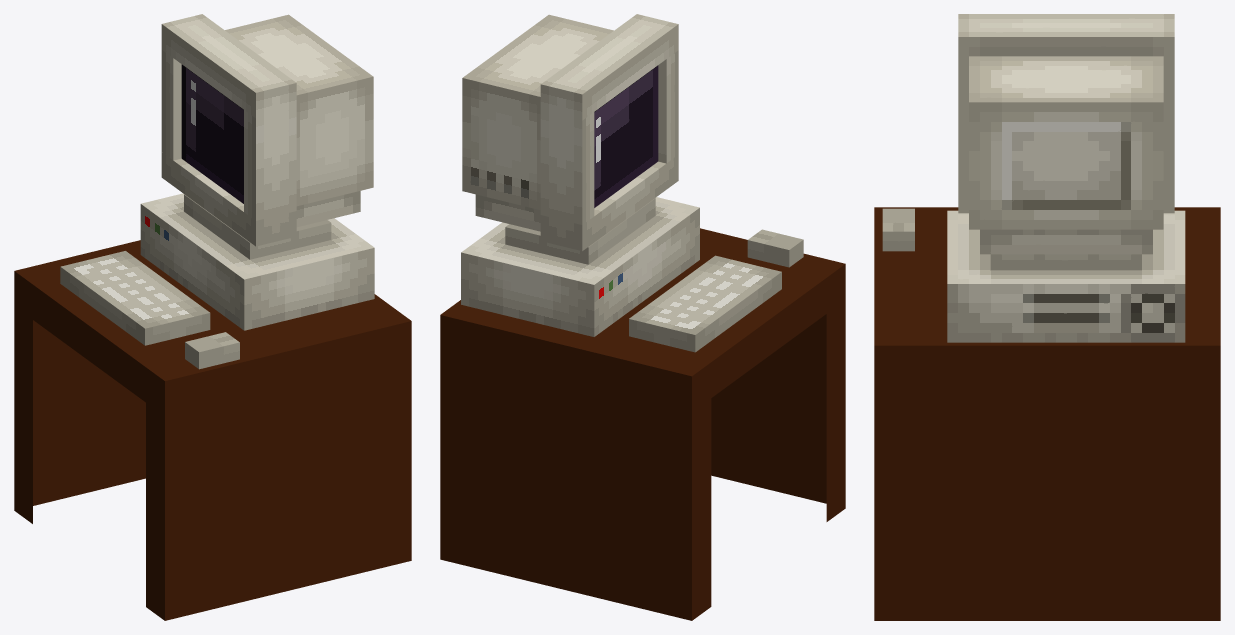
The picture shows the model from 3 angles, left to right: view 1: azimuth 30°, elevation 25°; view 2: azimuth 150°, elevation 25°; view 3: azimuth 270°, elevation 25°; orthographic projection. The views are drawn at different scales.
Parts seen in each view (by area): view 1: Cube; view 2: Cube; view 3: Cube.
Boxes of the visible parts, x1,y1,x2,y2 form: Cube: (14, 14, 411, 620); Cube: (440, 14, 845, 620); Cube: (874, 14, 1220, 620).
Size of the model in its own units: 1.91 by 3.44 by 2.
Materials: 2 (1 with a texture image).
